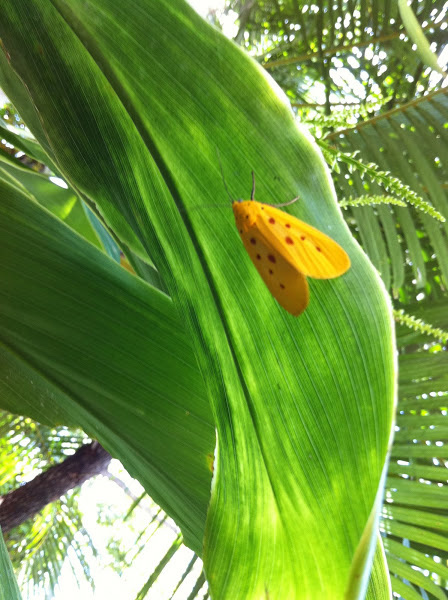Agape chloropyga: (184, 141, 351, 317)
moth: (186, 143, 353, 319)
